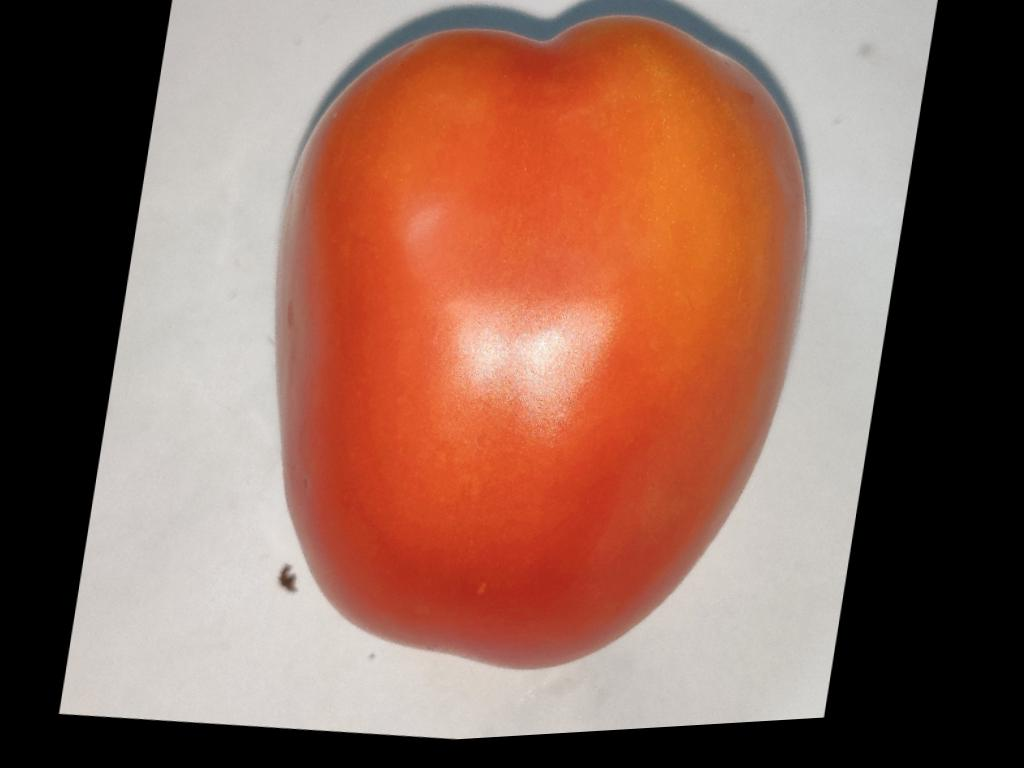tomato: (274, 16, 803, 668)
